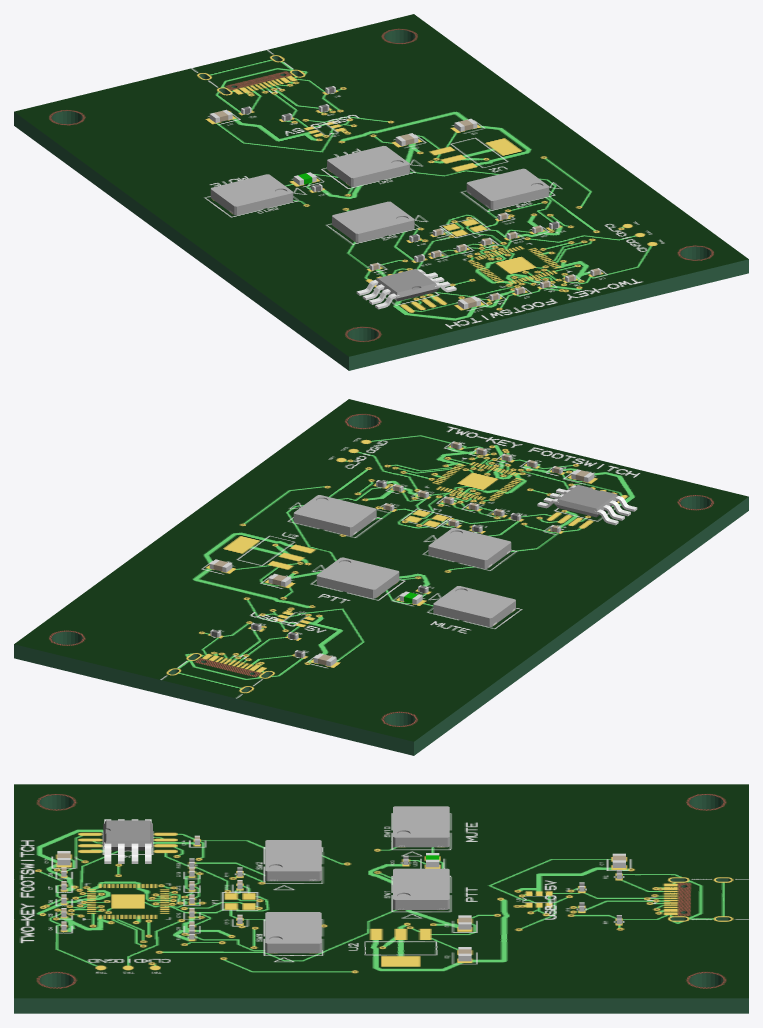
3 renders of one model, top to bottom at view 1: azimuth 30°, elevation 25°; view 2: azimuth 150°, elevation 25°; view 3: azimuth 270°, elevation 25°, orthographic. The views are drawn at different scales.
Parts seen in each view (by area): view 1: Box0, SW10, SW3, SW2, SW1, U4; view 2: Box0, SW1, SW2, SW3, SW10, U4; view 3: Box0, SW2, SW3, SW1, SW10, U4.
Part boxes in pixels (box(x1,y1,x2,y2)): Box0: box(14, 14, 748, 370); SW10: box(210, 174, 293, 215); SW3: box(466, 168, 549, 209); SW2: box(332, 201, 414, 242); SW1: box(327, 146, 409, 186); U4: box(356, 269, 456, 309); Box0: box(14, 399, 748, 755); SW1: box(316, 557, 399, 598); SW2: box(428, 528, 511, 568); SW3: box(293, 495, 376, 535); SW10: box(433, 586, 515, 626); U4: box(537, 485, 637, 525); Box0: box(14, 784, 748, 1013); SW2: box(265, 840, 321, 881); SW3: box(265, 912, 321, 953); SW1: box(393, 868, 449, 909); SW10: box(393, 806, 449, 847); U4: box(103, 819, 152, 863).
Bounding box in the file's own units: 47.5 × 2.88 × 68.9.
Materials: 10 (2 with a texture image).
